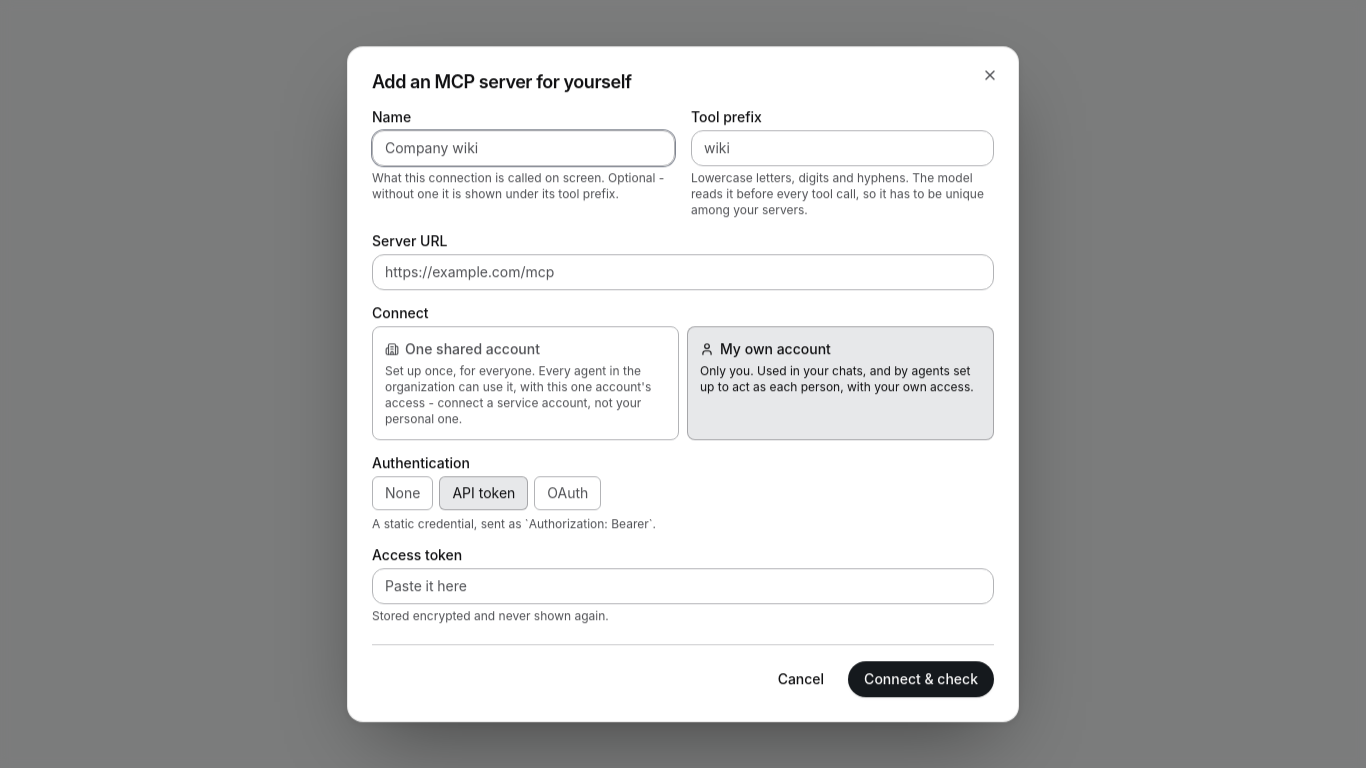
Test: a server added by its address › says when there is no sign-in, and leaves the choice alone
Type "https://mcp.example.com/mcp" into the field labelled "Server URL".
click(683, 272); type("https://mcp.example.com/mcp")  # box x1=372 y1=254 x2=994 y2=290
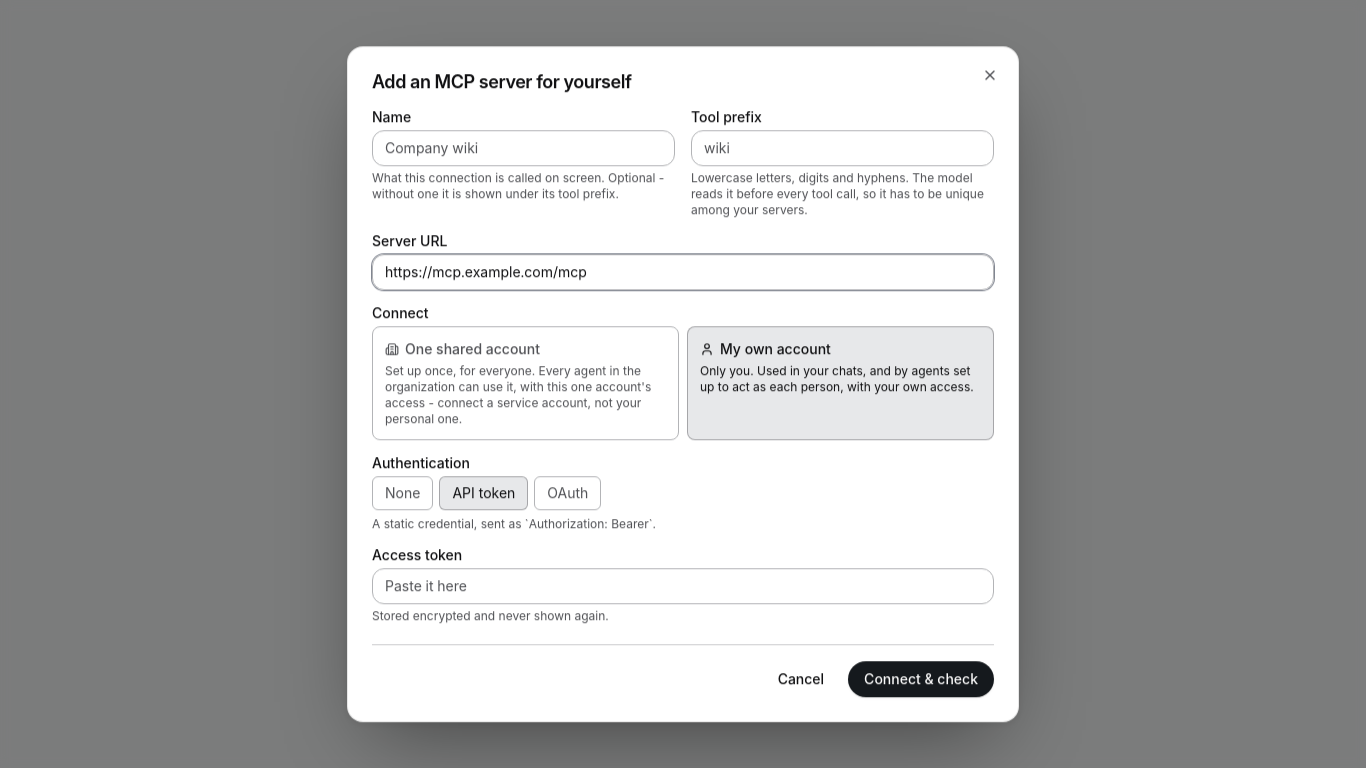
Press Tab
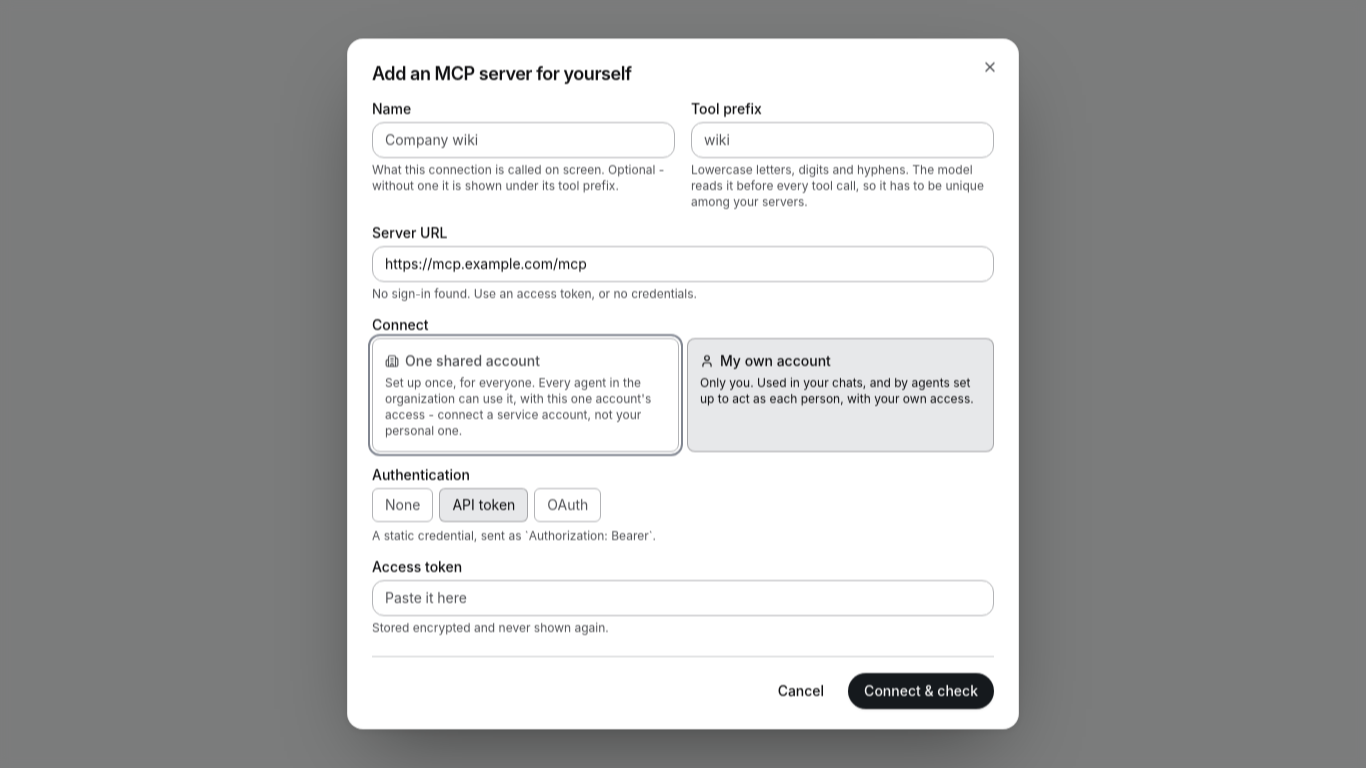
Check: the text "No sign-in found. Use an access token, or no credentials." is shown, box x1=372 y1=286 x2=697 y2=301
